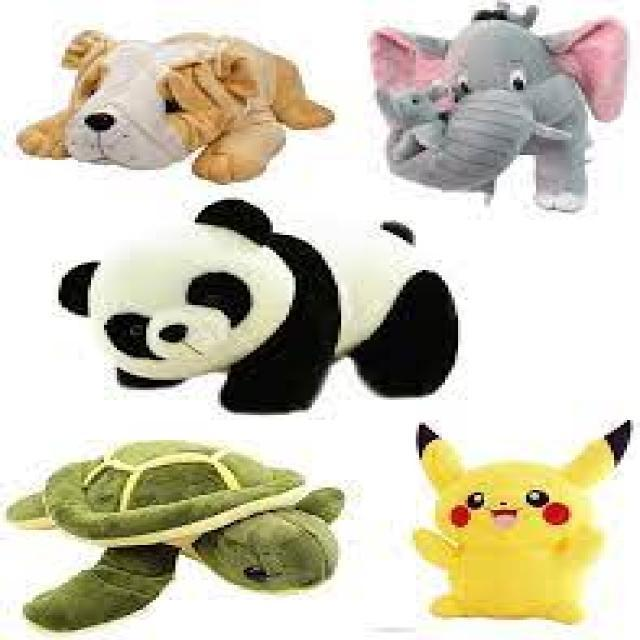soft-toy: (59, 200, 460, 413), (10, 441, 342, 630), (375, 4, 627, 212), (19, 32, 335, 184), (416, 440, 615, 623)
